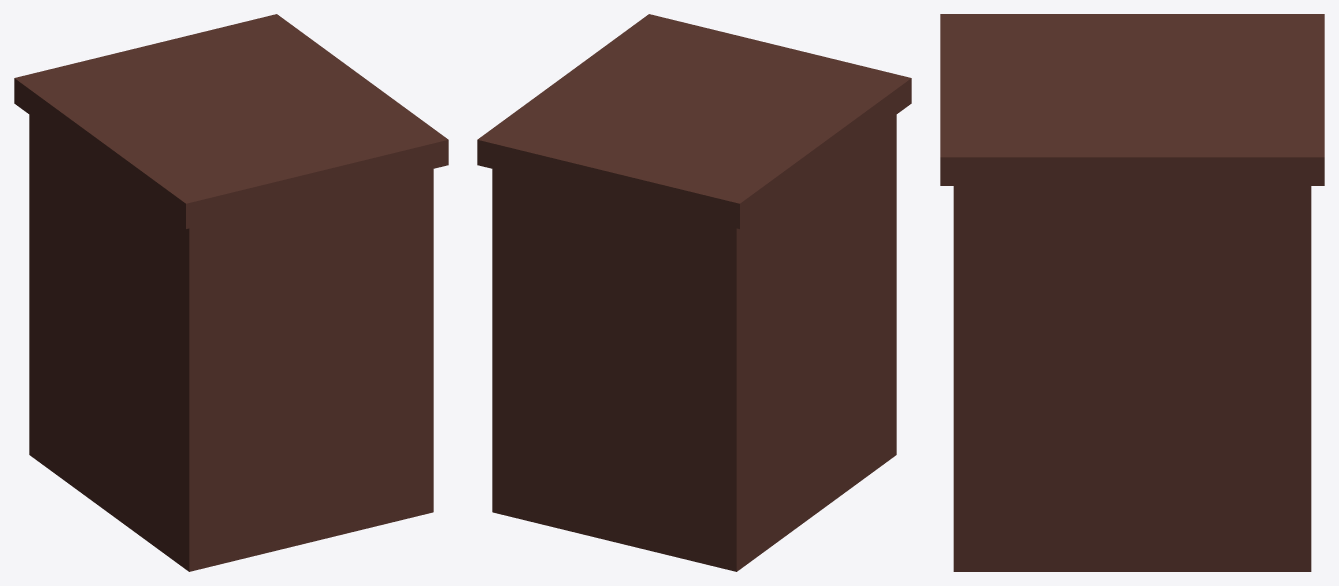
The model's file is strangeBox.fbx.
3 views of the same model, side by side, from view 1: azimuth 30°, elevation 25°; view 2: azimuth 150°, elevation 25°; view 3: azimuth 270°, elevation 25° (orthographic). The views are drawn at different scales.
Visible parts, largest first — view 1: Cube, Cube.001; view 2: Cube, Cube.001; view 3: Cube, Cube.001.
Boxes of the visible parts, <box> form: Cube: <box>29,115,433,571</box>; Cube.001: <box>14,14,448,228</box>; Cube: <box>492,115,896,571</box>; Cube.001: <box>477,14,911,228</box>; Cube: <box>953,186,1311,571</box>; Cube.001: <box>940,14,1324,185</box>.
Size of the model in its own units: 215 by 293 by 243.
